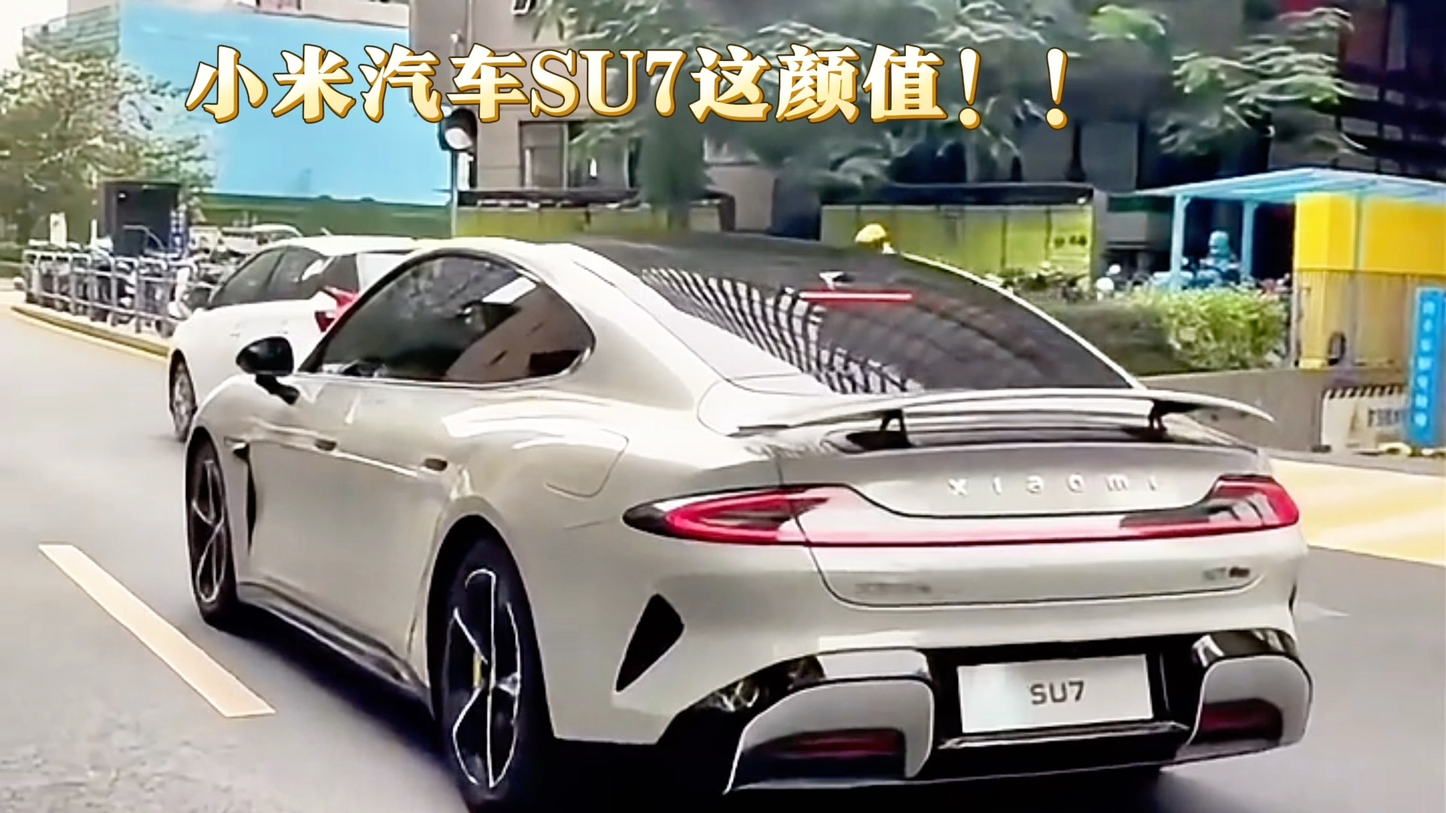su7: (190, 222, 1309, 799)
